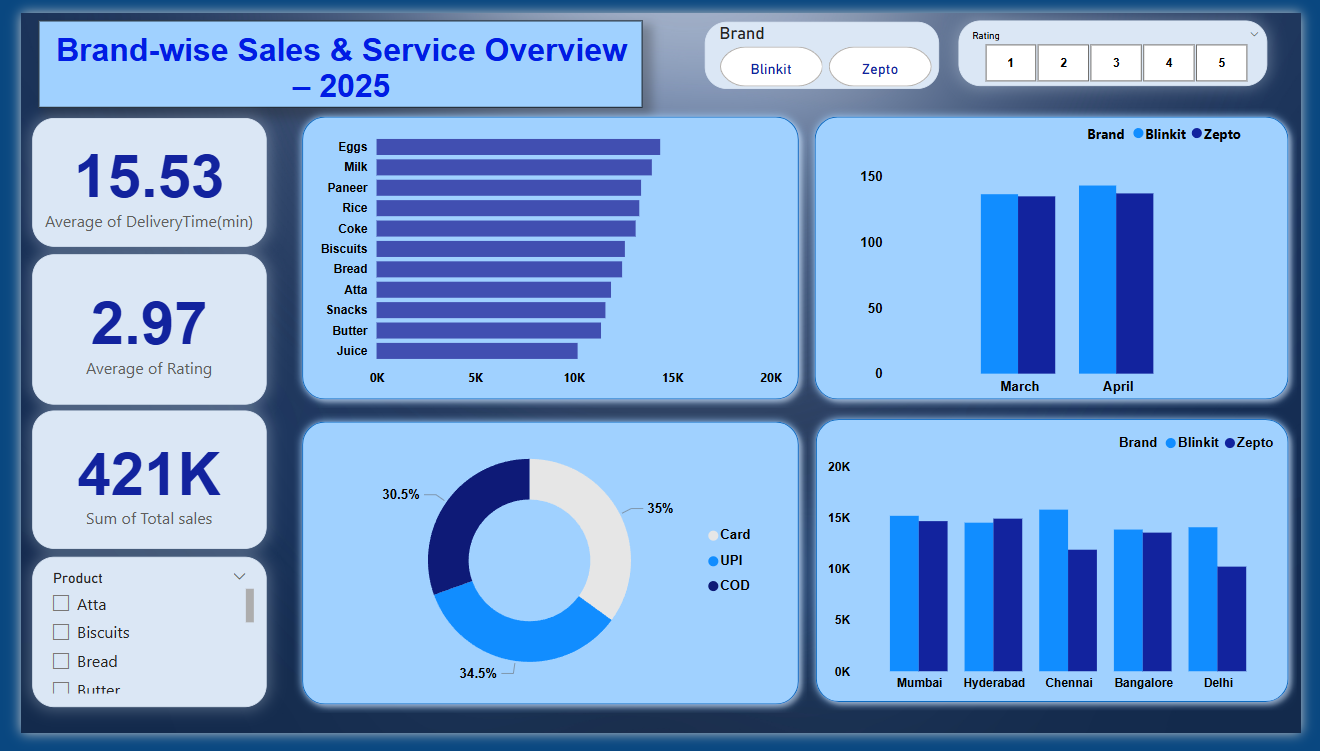

Layout of this report page (visuals, bound fields, positions):
{"tool":"powerbi","page":{"name":"Page 1","canvas":[1280,720],"ordinal":0},"visuals":[{"type":"textbox","title":"Brand-wise Sales & Service Overview – 2025","box":[17.1,7.1,604.3,87.1],"z":0},{"type":"card","fields":{"Values":["Avg(Sheet1.DeliveryTime(min))"]},"box":[10.8,104.5,234.1,128.5],"z":1000},{"type":"card","fields":{"Values":["Avg(Sheet1.Rating)"]},"box":[10.8,241.4,234.1,150.1],"z":2000},{"type":"shape","box":[272.6,94.9,513.9,300.2],"z":3000},{"type":"clusteredBarChart","fields":{"Category":["Sheet1.Product"],"Y":["Sum(Sheet1.Price)"]},"box":[294.2,104.5,471.9,278.6],"z":4000},{"type":"shape","box":[785.3,94.9,491.1,300.2],"z":5000},{"type":"shape","box":[786.5,397.4,489.9,300.2],"z":6000},{"type":"clusteredColumnChart","fields":{"Category":["Sheet1.City"],"Y":["Sum(Sheet1.Price)"],"Series":["Sheet1.Brand"]},"box":[800.9,409.5,461.1,276.2],"z":7000},{"type":"shape","box":[272.6,399.8,513.9,300.2],"z":8000},{"type":"donutChart","fields":{"Y":["CountNonNull(Sheet1.PaymentMode)"],"Category":["Sheet1.PaymentMode"]},"box":[326.6,397.4,417.9,300.2],"z":9000},{"type":"clusteredColumnChart","fields":{"Category":["Sheet1.Date.Variation.Date Hierarchy.Month"],"Y":["Avg(Sheet1.Price)"],"Series":["Sheet1.Brand"]},"box":[833.3,99.7,396.2,290.6],"z":10000},{"type":"slicer","fields":{"Values":["Sheet1.Product"]},"box":[10.8,543.9,234.1,150.1],"z":11000},{"type":"slicer","fields":{"Values":["Sheet1.Rating"]},"box":[937.1,7.1,308.6,65.7],"z":12000},{"type":"advancedSlicerVisual","fields":{"Values":["Sheet1.Brand"]},"box":[684.3,8.6,234.3,67.1],"z":13000},{"type":"card","fields":{"Values":["Sum(Sheet1.Total sales)"]},"box":[10.8,397.4,234.1,138.1],"z":14000}]}

Visuals, with their boxes in screenshot pixels (x1, y1, x2, y2), scaled from the page's 1280x720 canvas onto the 1320x751 screenshot:
"Brand-wise Sales & Service Overview – 2025" textbox: x1=18, y1=7, x2=641, y2=98
card - Avg(Sheet1.DeliveryTime(min)): x1=11, y1=109, x2=253, y2=243
card - Avg(Sheet1.Rating): x1=11, y1=252, x2=253, y2=408
shape: x1=281, y1=99, x2=811, y2=412
clusteredBarChart - Sheet1.Product x Sum(Sheet1.Price): x1=303, y1=109, x2=790, y2=400
shape: x1=810, y1=99, x2=1316, y2=412
shape: x1=811, y1=415, x2=1316, y2=728
clusteredColumnChart - Sheet1.City x Sum(Sheet1.Price): x1=826, y1=427, x2=1301, y2=715
shape: x1=281, y1=417, x2=811, y2=730
donutChart - CountNonNull(Sheet1.PaymentMode) x Sheet1.PaymentMode: x1=337, y1=415, x2=768, y2=728
clusteredColumnChart - Sheet1.Date.Variation.Date Hierarchy.Month x Avg(Sheet1.Price): x1=859, y1=104, x2=1268, y2=407
slicer - Sheet1.Product: x1=11, y1=567, x2=253, y2=724
slicer - Sheet1.Rating: x1=966, y1=7, x2=1285, y2=76
advancedSlicerVisual - Sheet1.Brand: x1=706, y1=9, x2=947, y2=79
card - Sum(Sheet1.Total sales): x1=11, y1=415, x2=253, y2=559
